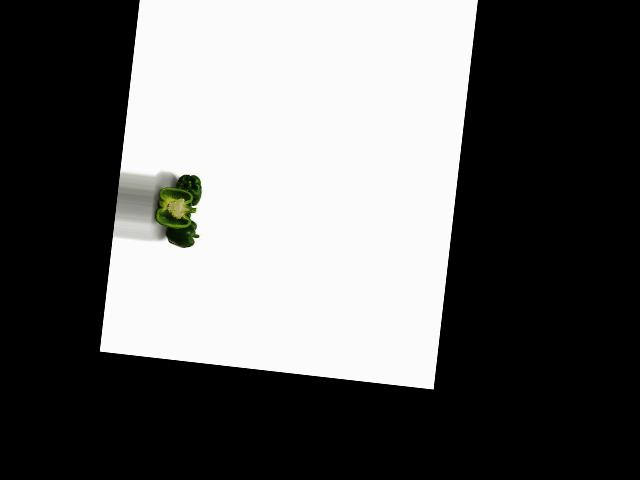bell_pepper: (169, 170, 206, 209)
